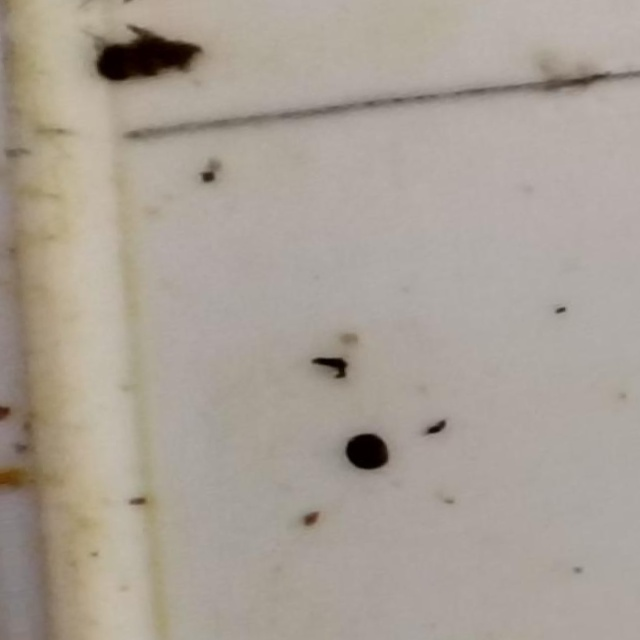varroa: (343, 430, 394, 477)
